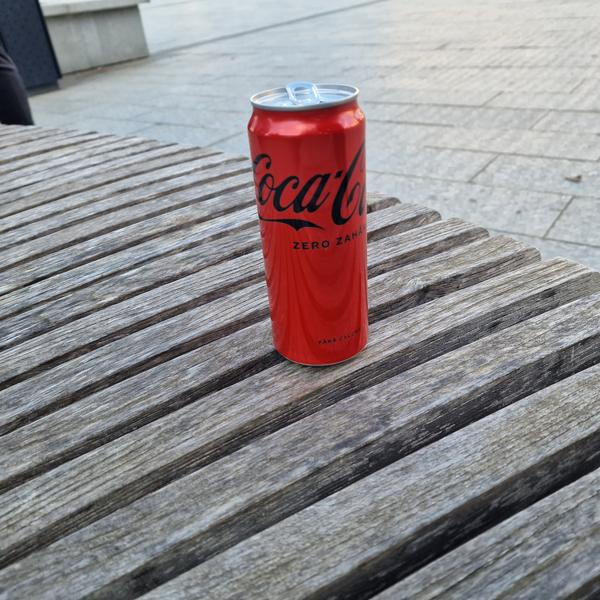can: (243, 73, 381, 372)
